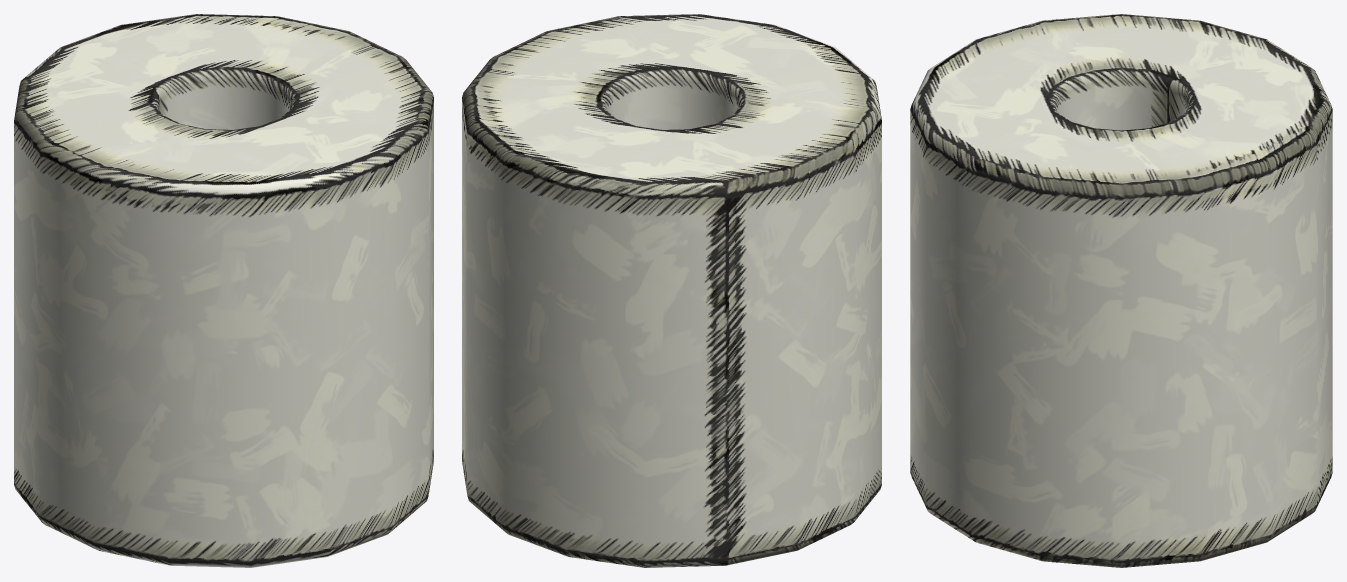
3 views of the same model, side by side, from view 1: azimuth 30°, elevation 25°; view 2: azimuth 150°, elevation 25°; view 3: azimuth 270°, elevation 25° (orthographic).
Parts seen in each view (by area): view 1: toiletpaper; view 2: toiletpaper; view 3: toiletpaper.
Part boxes in pixels (x1,y1,x2,y2): toiletpaper: (14, 14, 433, 567); toiletpaper: (462, 14, 881, 567); toiletpaper: (910, 14, 1332, 567).
Size of the model in its own units: 0.16 by 0.16 by 0.16.
Materials: 1 (1 with a texture image).
